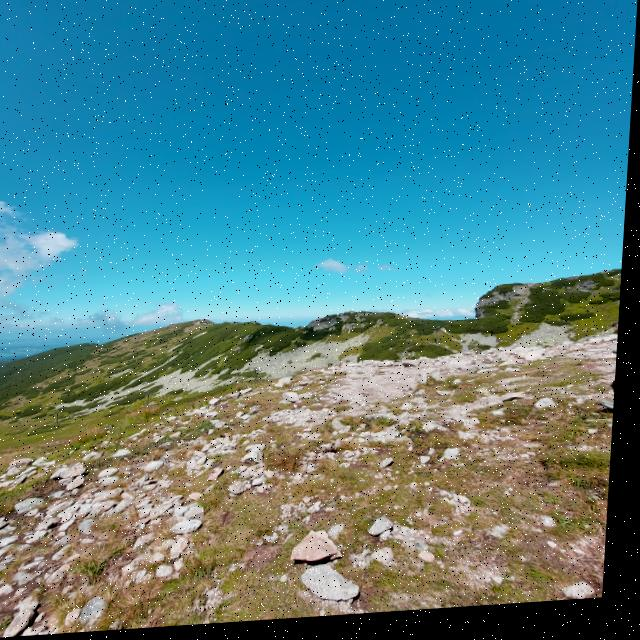Uhrocie Kasprowe: (50, 210, 612, 421)
